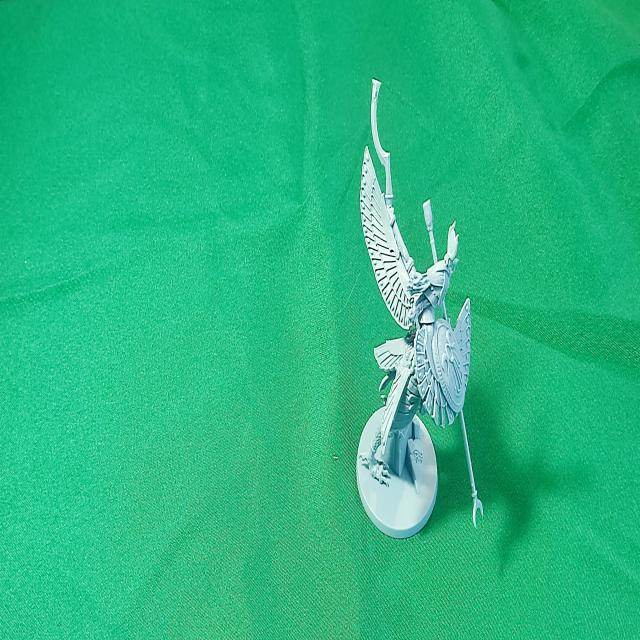isis: (334, 54, 490, 565)
